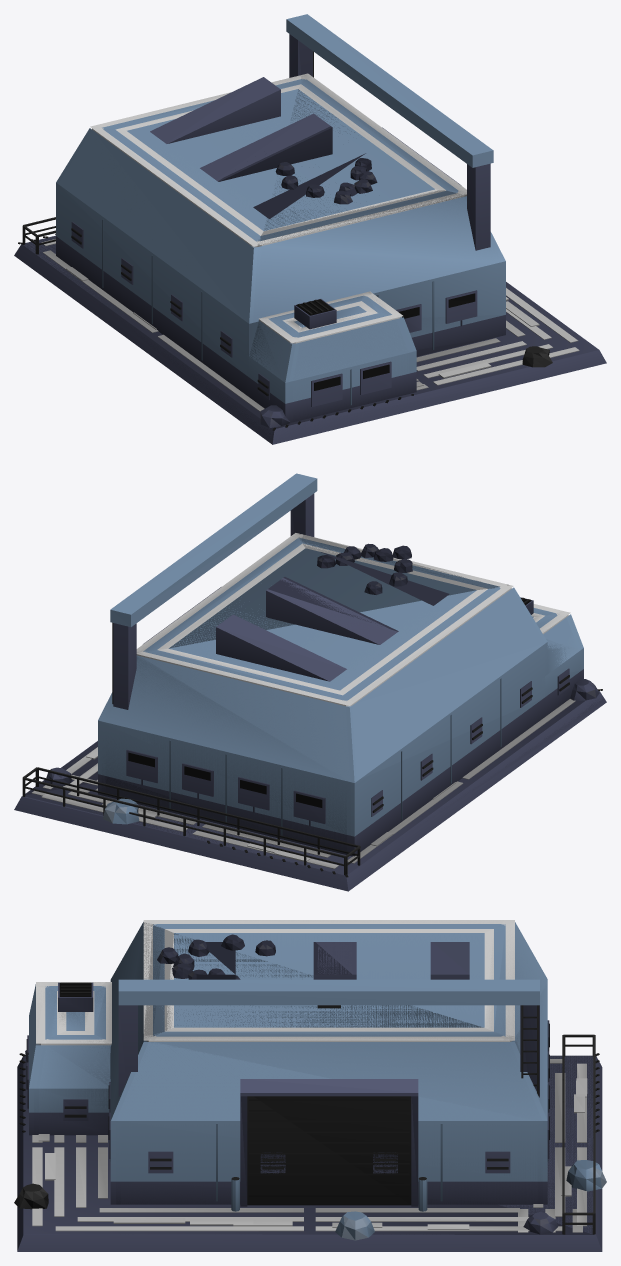
File: veyran_vehicle_factory_damaged.glb
3 renders of one model, top to bottom at view 1: azimuth 30°, elevation 25°; view 2: azimuth 150°, elevation 25°; view 3: azimuth 270°, elevation 25°, orthographic. The views are drawn at different scales.
Parts seen in each view (by area): view 1: body (×3); view 2: body (×3); view 3: body (×3).
Part boxes in pixels (left/top/right/bottom): body (×3): left=14, top=14, right=606, bottom=444; body (×3): left=14, top=473, right=606, bottom=891; body (×3): left=14, top=920, right=606, bottom=1251.
Size of the model in its own units: 11.39 by 6.3 by 15.2.
